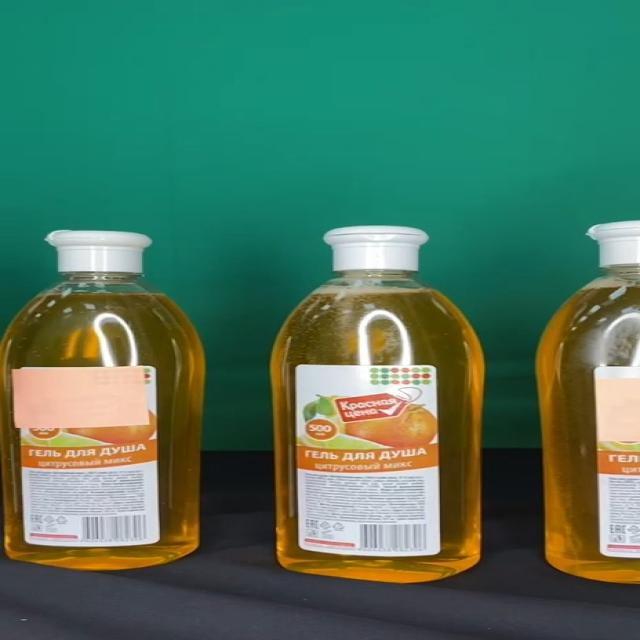Bottle: (270, 227, 486, 582), (0, 229, 205, 572)
Cap: (47, 230, 152, 273), (323, 227, 426, 270)
